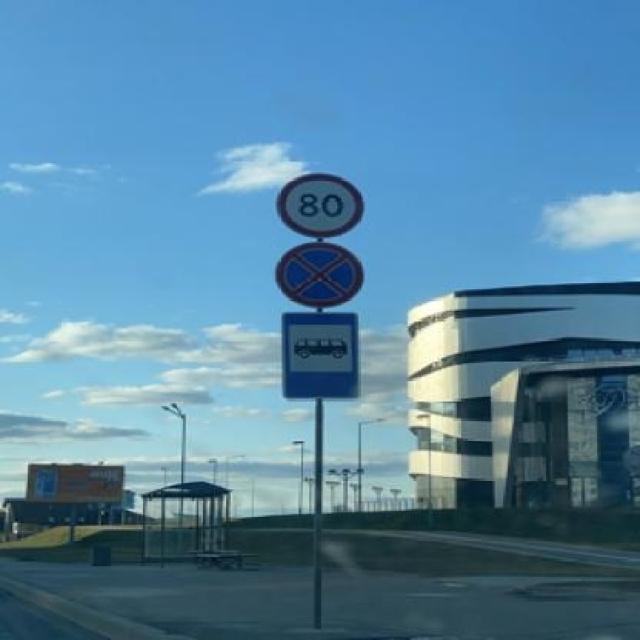forb_speed_over_80: (279, 171, 364, 238)
